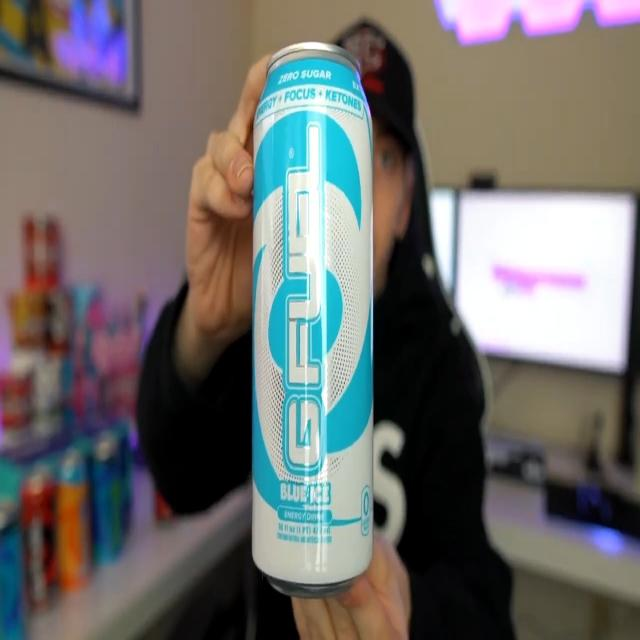can: (246, 29, 373, 600)
